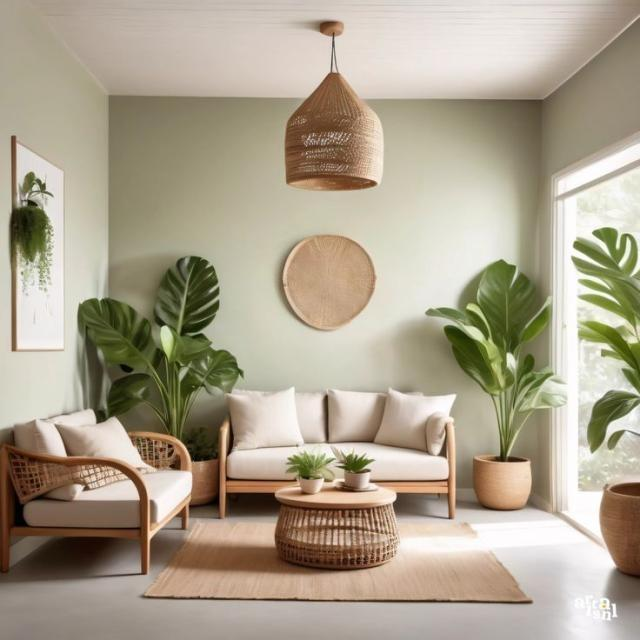obstacle: (0, 408, 193, 575), (217, 387, 458, 520), (273, 482, 399, 570)
